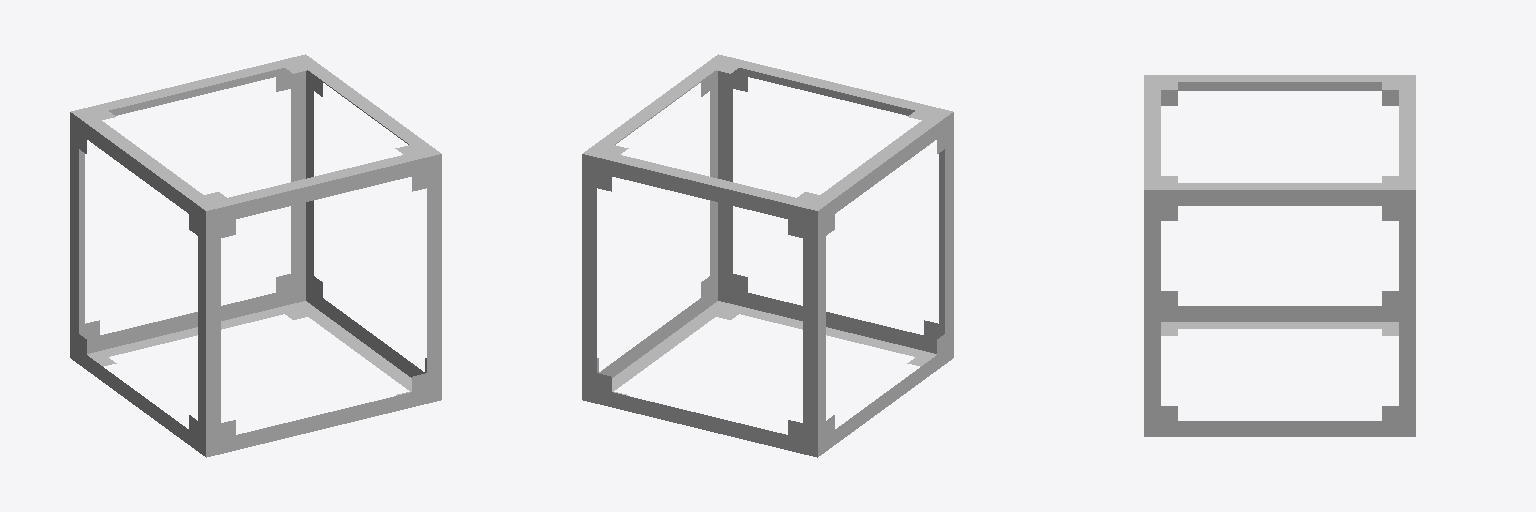
The model's file is storage_bin_frame.obj.
3 renders of one model, left to right at view 1: azimuth 30°, elevation 25°; view 2: azimuth 150°, elevation 25°; view 3: azimuth 270°, elevation 25°, orthographic.
Visible parts, largest first — view 1: storage_bin_frame; view 2: storage_bin_frame; view 3: storage_bin_frame.
Boxes of the visible parts, <box> form: storage_bin_frame: <box>70,54,441,457</box>; storage_bin_frame: <box>582,54,953,457</box>; storage_bin_frame: <box>1144,75,1415,436</box>.
Size of the model in its own units: 1 by 1 by 1.